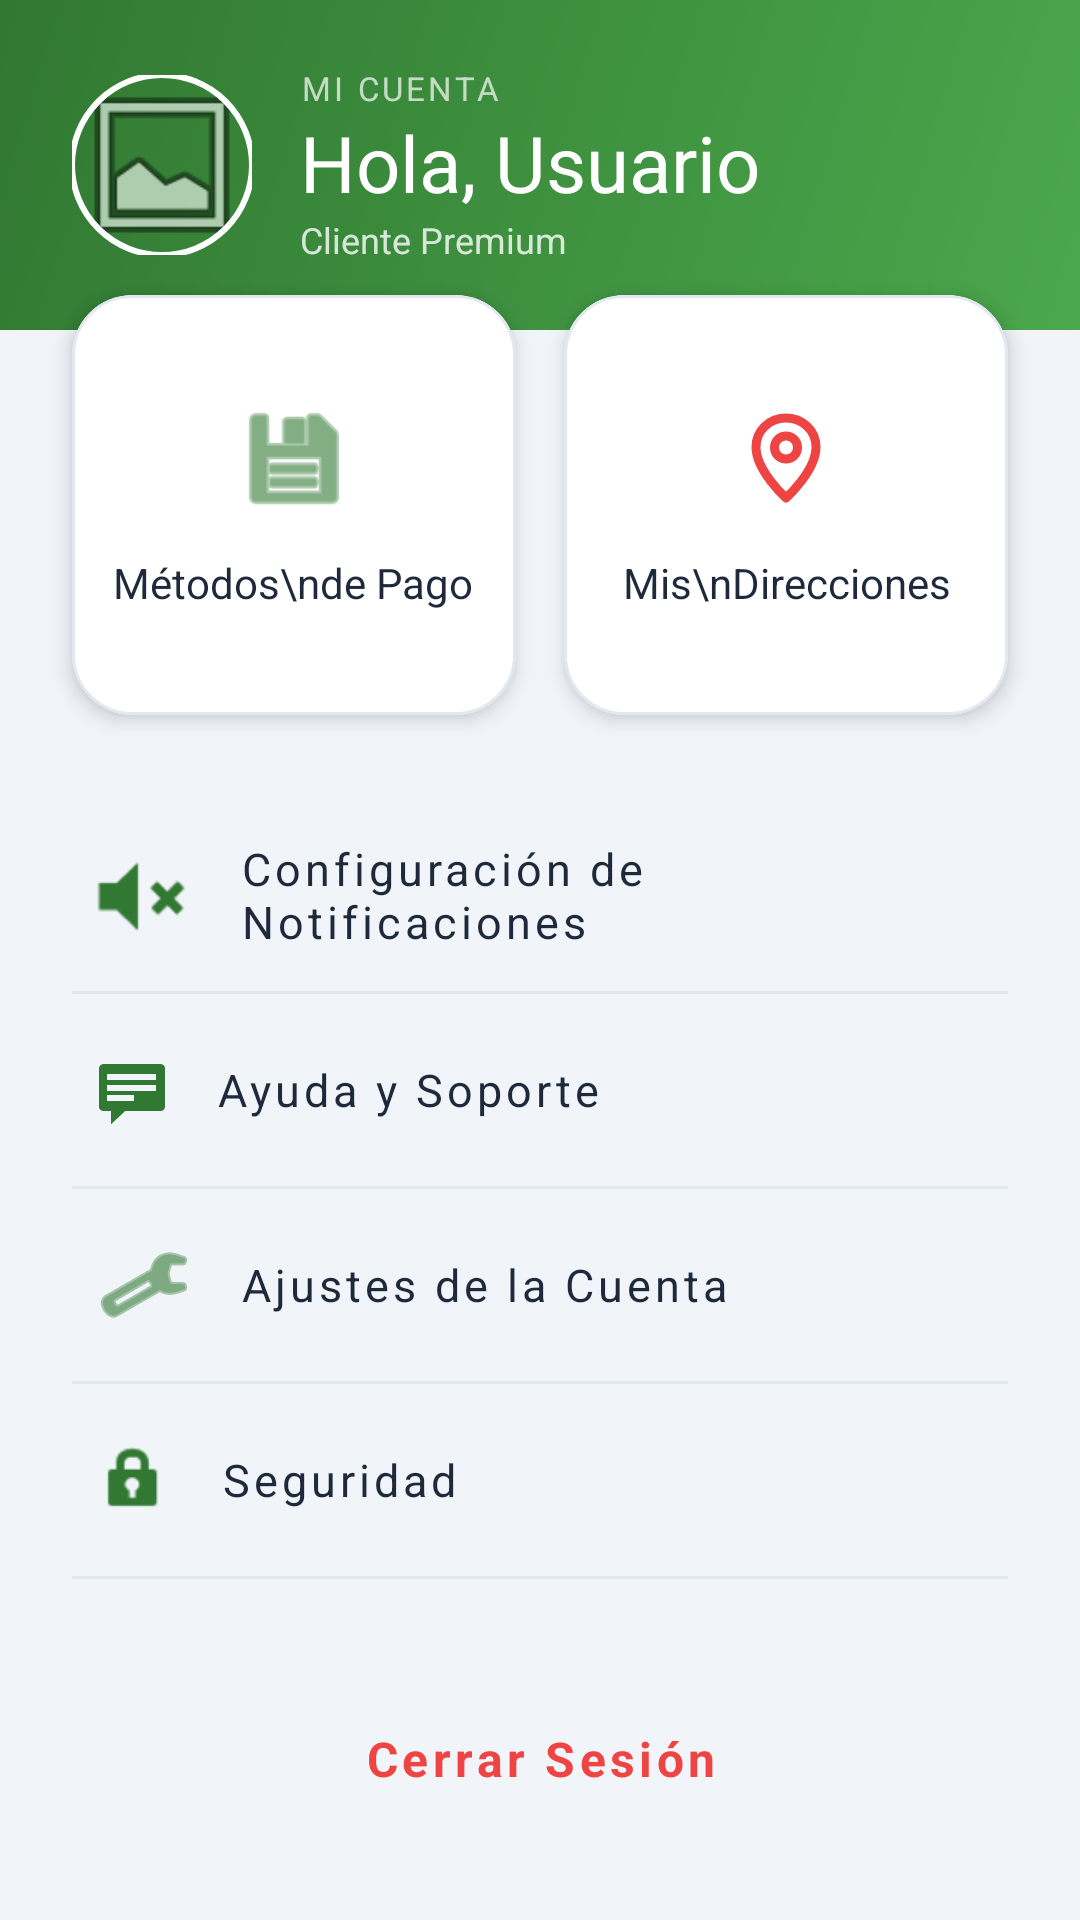

Icon click points for this 1080px×1920px phone screenshot, format (x=x, y=y):
gallery: (x=162, y=165)
save: (x=294, y=458)
ubicacion: (x=786, y=458)
